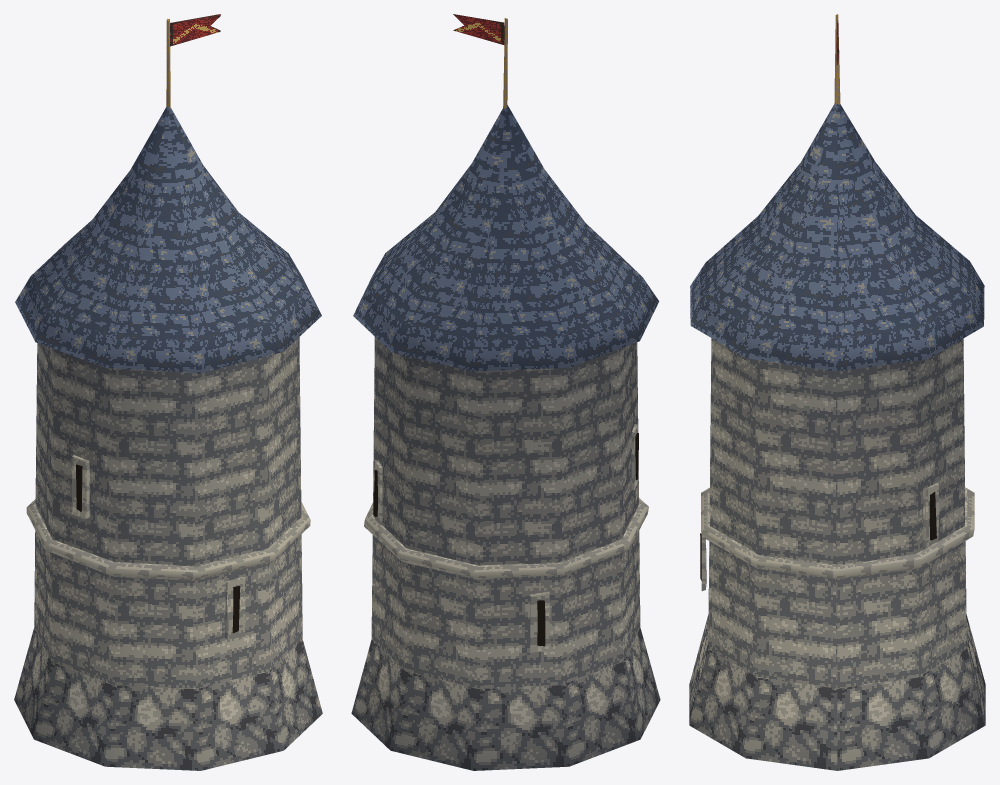
The model's file is cst.tower_round__roofed.glb.
The picture shows the model from 3 angles, left to right: view 1: azimuth 30°, elevation 25°; view 2: azimuth 150°, elevation 25°; view 3: azimuth 270°, elevation 25°; orthographic projection.
Parts seen in each view (by area): view 1: kit_drum, kit_top, kit_detail; view 2: kit_drum, kit_top, kit_detail; view 3: kit_drum, kit_top, kit_detail.
Part boxes in pixels (x1,y1,x2,y2): kit_drum: (14, 337, 322, 770); kit_top: (15, 106, 321, 373); kit_detail: (26, 14, 310, 639); kit_drum: (351, 337, 660, 770); kit_top: (353, 105, 659, 371); kit_detail: (364, 14, 648, 652); kit_drum: (689, 338, 985, 770); kit_top: (690, 103, 984, 371); kit_detail: (700, 14, 974, 590).
Size of the model in its own units: 6.9 by 16.87 by 6.56.
7 materials, 7 textured.
